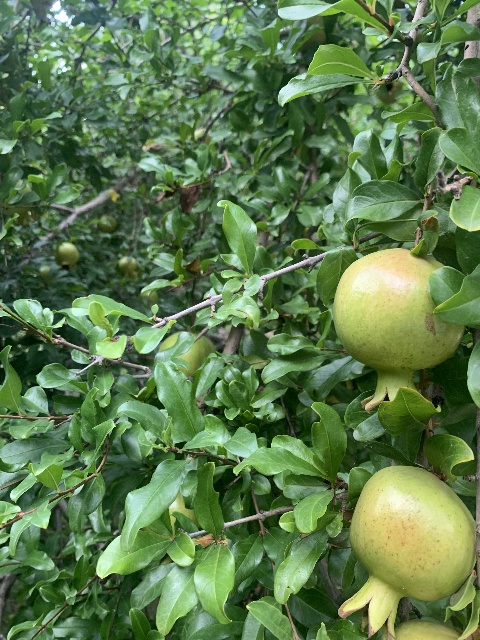mid-growth: (338, 464, 476, 636), (332, 247, 464, 413), (157, 331, 216, 376), (54, 242, 79, 269), (117, 255, 139, 279)
